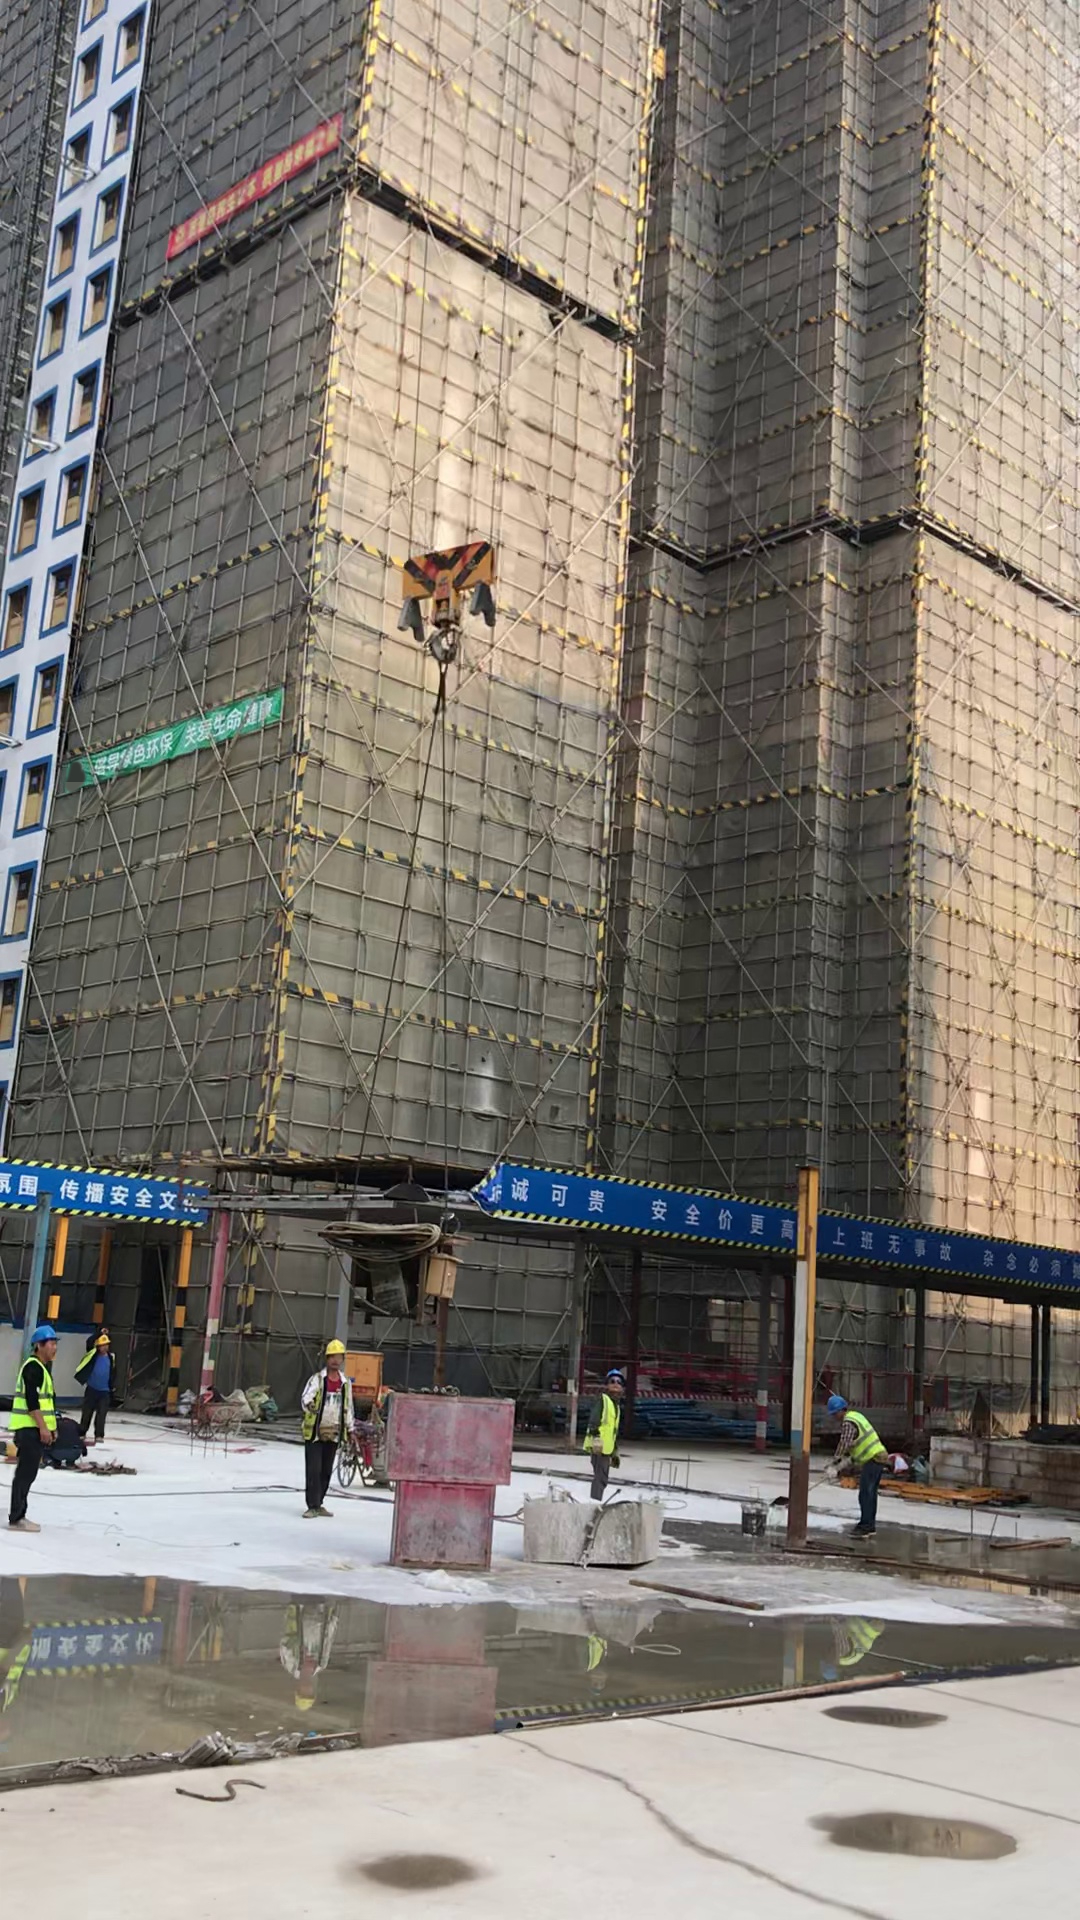ebox: (348, 1350, 388, 1417), (423, 1251, 471, 1301)
fence: (579, 1343, 911, 1389)
handcart: (159, 1398, 249, 1441)
helmet: (321, 1335, 352, 1357), (26, 1324, 64, 1342), (827, 1389, 850, 1414), (605, 1364, 631, 1383), (94, 1334, 113, 1345)
hook: (389, 524, 503, 674)
hopper: (522, 1491, 675, 1569)
person: (1, 1324, 77, 1544), (285, 1338, 371, 1527), (814, 1386, 905, 1545), (575, 1362, 653, 1500), (69, 1326, 137, 1453)
slogan: (509, 1161, 1080, 1299), (175, 116, 343, 257), (70, 693, 283, 794), (9, 1159, 205, 1220)
vest: (13, 1357, 56, 1435), (312, 1368, 349, 1444), (843, 1415, 889, 1468), (588, 1394, 618, 1458)
